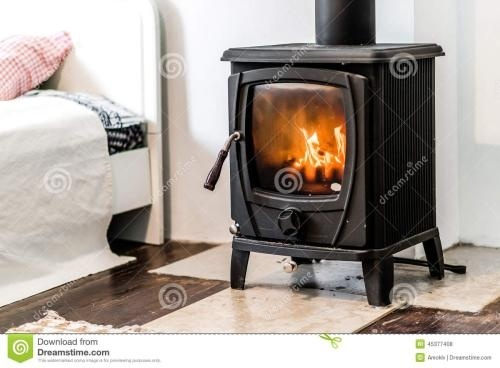fire: (294, 120, 346, 173)
